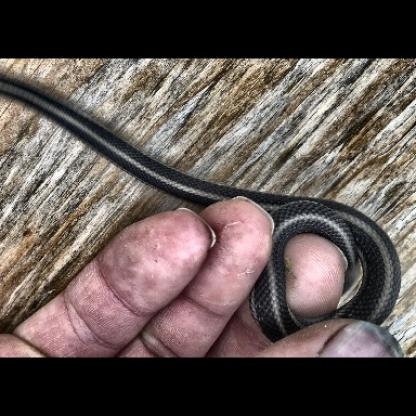Snake: (3, 75, 404, 328)
